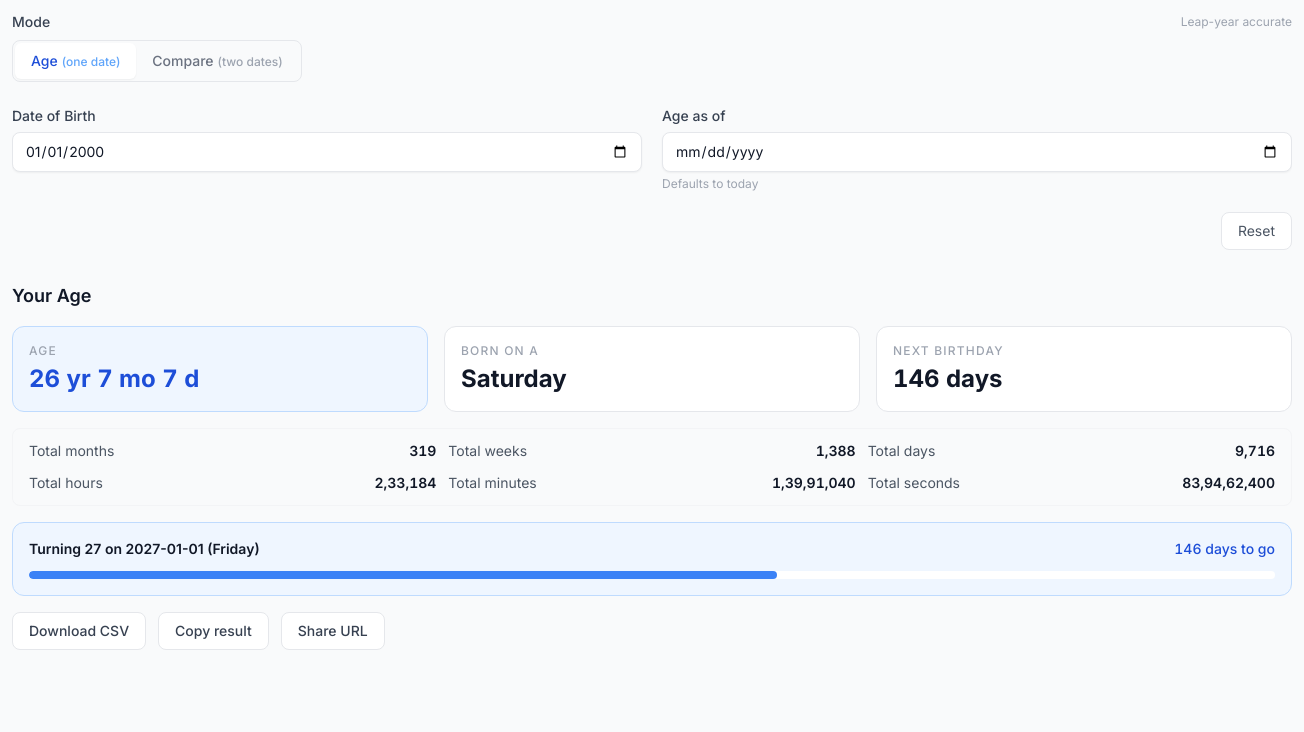
Test case: AgeCalculator › switches to compare mode and shows an age difference
Click the button named "Compare (two dates)" at (218, 61), box [136,43,299,79]
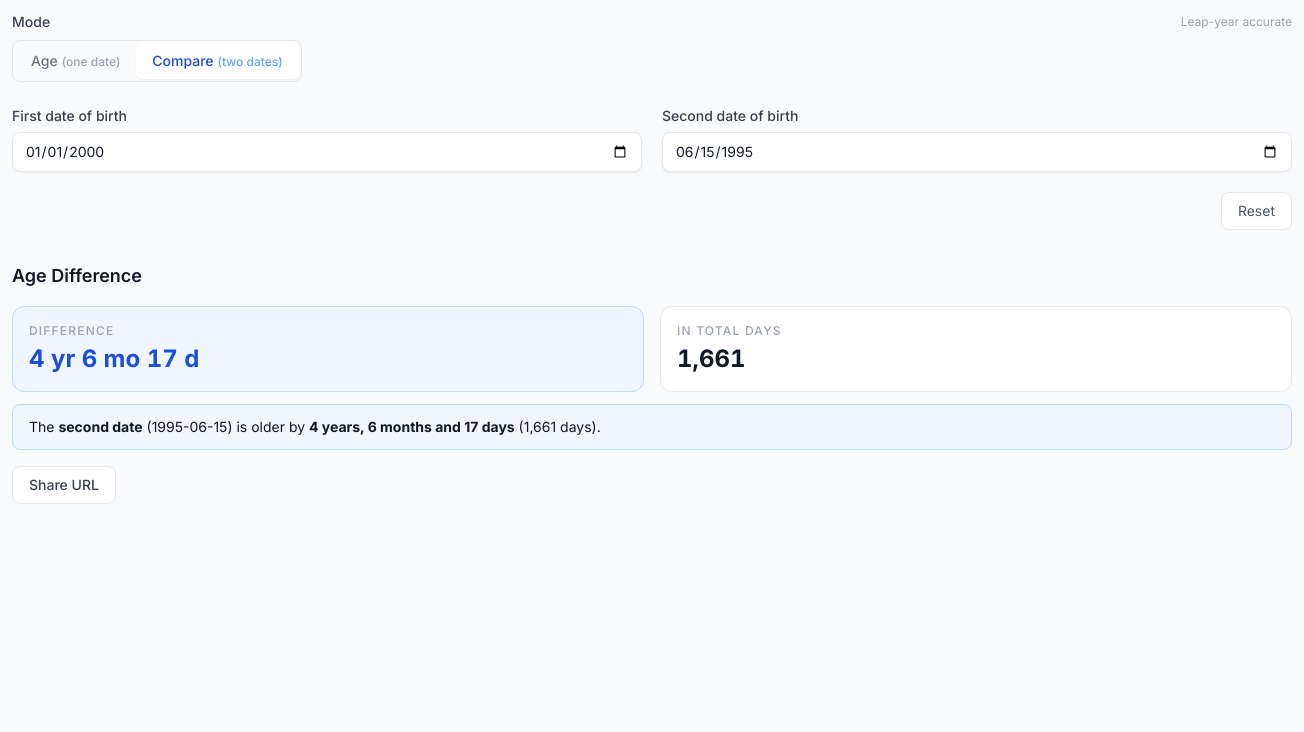
Expected: the date field labelled "First date of birth" is shown, [12,132,642,172]
Expected: the heading "Age Difference" is shown, [12,265,142,286]
Expected: the text "older by" shows "second date", [12,404,1292,450]
